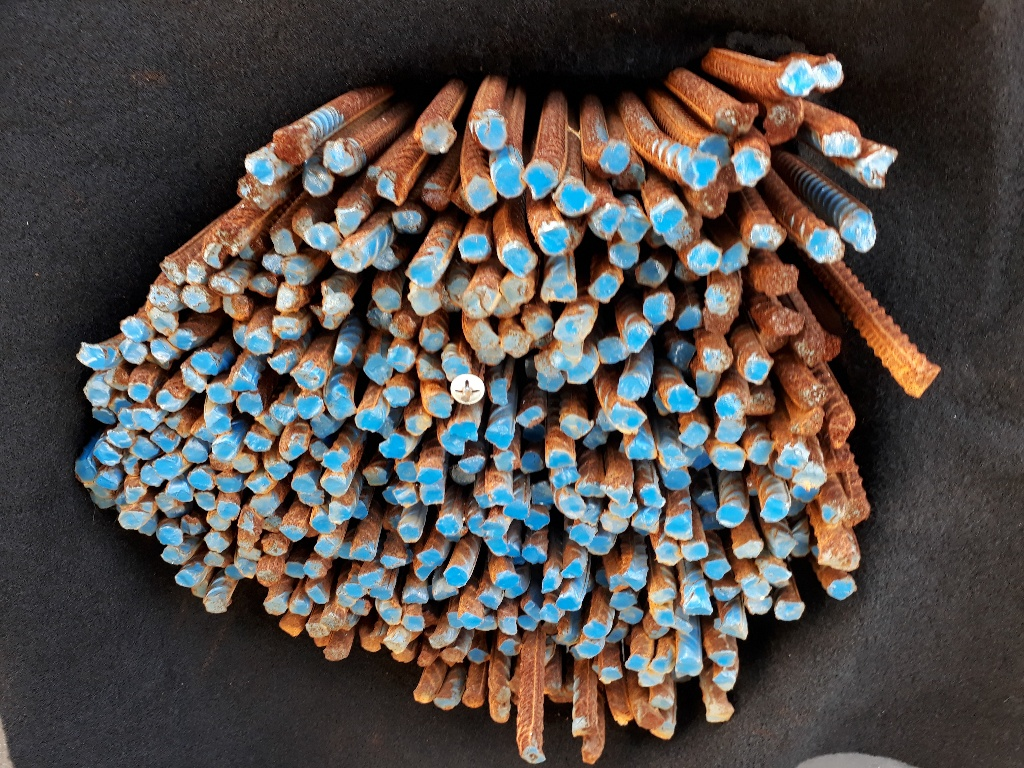dipstick: (840, 209, 877, 254), (805, 224, 846, 264), (860, 145, 898, 188), (766, 97, 800, 145), (233, 173, 277, 210), (681, 151, 720, 190), (272, 127, 312, 165), (553, 180, 595, 216), (793, 333, 832, 369), (419, 119, 457, 154), (686, 239, 721, 277), (460, 285, 499, 319), (406, 280, 442, 316), (653, 198, 688, 235), (523, 160, 556, 199), (555, 306, 594, 339), (718, 103, 759, 134), (463, 175, 497, 212), (502, 271, 536, 308), (782, 59, 815, 97), (303, 160, 335, 199), (280, 422, 311, 462), (698, 133, 733, 168), (318, 279, 353, 314), (906, 362, 940, 398), (820, 541, 860, 571), (732, 150, 766, 185), (503, 242, 537, 277), (322, 138, 357, 172), (748, 222, 789, 251), (809, 59, 845, 92), (520, 304, 553, 340), (609, 404, 646, 436), (494, 159, 525, 197), (822, 128, 861, 158), (404, 254, 438, 288), (830, 409, 857, 451), (476, 116, 509, 150), (642, 292, 675, 326), (243, 152, 276, 186), (329, 242, 366, 272), (599, 143, 632, 176), (765, 264, 797, 297), (593, 203, 622, 239), (302, 221, 339, 249), (377, 166, 404, 204), (500, 327, 532, 359), (538, 223, 569, 256), (362, 352, 395, 383), (666, 383, 700, 413), (720, 240, 749, 275), (309, 304, 349, 329), (148, 304, 180, 335), (635, 257, 668, 287), (704, 285, 737, 315), (567, 355, 600, 385), (767, 307, 805, 333), (457, 233, 491, 262), (796, 382, 830, 411), (73, 339, 107, 368), (292, 363, 327, 391), (664, 218, 694, 250), (335, 203, 365, 235), (371, 283, 403, 313), (151, 422, 181, 454), (742, 354, 771, 387), (712, 442, 745, 471), (559, 413, 592, 442), (551, 342, 584, 371), (118, 314, 153, 341), (589, 271, 618, 303), (701, 344, 734, 372), (623, 321, 651, 354), (177, 360, 204, 394), (597, 338, 633, 363), (275, 282, 306, 311), (669, 339, 697, 371), (266, 228, 298, 256), (792, 409, 824, 437), (422, 177, 449, 210), (310, 412, 343, 439), (612, 165, 645, 192), (270, 314, 304, 340), (786, 479, 821, 504), (247, 492, 282, 517), (760, 494, 789, 524), (387, 342, 416, 372), (616, 373, 647, 401), (677, 421, 710, 447), (116, 339, 149, 365), (556, 494, 585, 523), (244, 327, 273, 356), (713, 418, 748, 442), (631, 508, 661, 536), (221, 294, 251, 322), (716, 501, 747, 528), (663, 514, 694, 541), (130, 432, 161, 459), (150, 335, 177, 366), (607, 242, 639, 268), (244, 469, 277, 494), (445, 274, 469, 308), (153, 453, 181, 482), (827, 574, 857, 601), (355, 406, 385, 433), (390, 311, 416, 342), (154, 491, 185, 517), (624, 435, 656, 460), (416, 326, 448, 351), (383, 383, 415, 408), (484, 426, 517, 450), (448, 419, 481, 443), (778, 442, 808, 468), (423, 392, 453, 418), (438, 429, 468, 455), (393, 480, 419, 510), (150, 284, 180, 310), (158, 256, 183, 287), (179, 285, 210, 310), (660, 468, 692, 492), (651, 542, 683, 566), (242, 428, 274, 452), (741, 574, 774, 597), (716, 392, 744, 419), (281, 256, 308, 284), (602, 482, 630, 509), (182, 438, 210, 465), (327, 396, 356, 422), (747, 389, 777, 414), (598, 509, 629, 533), (415, 357, 446, 381), (520, 508, 552, 531), (292, 207, 313, 242), (675, 304, 702, 331), (444, 354, 470, 382), (249, 272, 277, 298), (188, 465, 214, 493), (701, 557, 730, 582), (236, 389, 265, 414), (236, 235, 265, 260), (638, 484, 668, 508), (847, 496, 871, 526), (209, 274, 243, 295), (695, 366, 718, 397), (657, 445, 688, 468), (775, 598, 806, 621), (515, 406, 546, 429), (759, 329, 791, 351), (569, 521, 595, 548), (383, 627, 410, 653), (237, 506, 263, 533), (254, 410, 282, 435), (260, 533, 288, 558), (266, 350, 294, 375), (190, 349, 218, 374), (419, 482, 448, 506), (269, 401, 298, 425), (95, 439, 124, 463), (106, 426, 135, 450), (759, 561, 792, 582), (499, 496, 529, 519), (639, 706, 669, 729), (717, 617, 748, 639), (748, 439, 774, 465), (321, 448, 347, 474), (310, 509, 336, 535), (529, 479, 556, 504), (320, 471, 347, 496), (379, 434, 408, 457), (580, 618, 609, 641), (535, 371, 565, 393), (294, 394, 324, 416), (264, 459, 295, 480), (226, 370, 257, 391), (822, 500, 847, 526), (406, 410, 432, 435), (154, 387, 181, 411), (103, 366, 130, 390), (392, 209, 421, 231), (202, 241, 224, 270), (680, 540, 709, 562), (430, 577, 459, 599), (215, 472, 244, 494), (549, 467, 579, 488), (119, 508, 149, 529), (165, 411, 190, 436), (477, 586, 503, 610), (127, 378, 153, 402), (518, 451, 545, 474), (74, 459, 97, 486), (370, 247, 398, 269), (769, 535, 797, 557), (362, 464, 390, 486), (545, 448, 574, 469), (713, 667, 738, 691), (210, 438, 235, 462), (233, 528, 263, 548), (156, 526, 186, 546), (84, 380, 109, 404), (207, 379, 233, 402), (365, 307, 392, 329), (609, 588, 636, 610), (491, 450, 519, 471), (417, 545, 445, 566), (519, 742, 547, 763), (734, 539, 763, 559), (486, 485, 515, 505), (707, 703, 736, 723), (789, 529, 812, 554), (444, 565, 469, 588), (207, 507, 232, 530), (167, 478, 192, 501), (488, 378, 510, 404), (327, 500, 349, 526), (400, 610, 426, 632), (141, 463, 163, 489), (540, 566, 561, 593), (230, 321, 251, 348), (458, 454, 486, 474), (583, 426, 606, 450), (686, 598, 714, 617), (449, 463, 477, 482), (166, 328, 194, 347), (159, 546, 187, 565), (495, 612, 518, 635), (460, 610, 483, 633), (395, 459, 417, 483), (465, 512, 487, 536), (312, 535, 336, 557), (588, 535, 613, 556), (676, 656, 701, 677), (435, 515, 460, 536), (133, 407, 154, 432), (618, 605, 644, 625), (571, 717, 597, 737), (277, 616, 303, 636), (768, 460, 795, 479), (334, 339, 353, 366), (712, 584, 742, 601), (562, 556, 584, 579), (522, 597, 544, 620), (209, 413, 232, 435), (233, 557, 256, 579), (216, 499, 238, 522), (259, 253, 283, 274), (697, 490, 718, 514), (484, 536, 509, 556), (539, 603, 564, 623), (291, 474, 316, 494), (283, 521, 308, 541), (441, 647, 466, 667), (576, 482, 607, 498), (521, 543, 547, 562), (304, 585, 330, 604), (611, 704, 633, 726), (265, 594, 287, 616), (625, 651, 650, 670), (403, 587, 428, 606), (745, 597, 771, 615), (650, 587, 676, 605), (638, 668, 664, 686), (298, 488, 324, 506), (577, 639, 603, 657), (319, 645, 350, 660), (234, 545, 265, 560), (416, 467, 445, 483), (379, 604, 401, 625), (418, 645, 440, 666), (322, 611, 344, 632), (206, 530, 228, 551), (625, 566, 645, 589), (557, 592, 580, 612), (398, 524, 421, 544), (307, 438, 327, 461), (304, 557, 327, 577), (359, 633, 382, 653), (414, 562, 439, 580), (429, 629, 454, 647), (121, 451, 139, 476), (709, 651, 737, 667), (90, 406, 118, 422), (597, 666, 623, 683), (489, 702, 510, 723), (516, 613, 538, 633), (195, 490, 215, 512), (344, 579, 367, 598), (348, 597, 371, 616), (185, 259, 204, 282), (96, 470, 119, 489), (435, 693, 460, 710), (173, 569, 198, 586), (368, 586, 396, 601), (358, 570, 380, 589), (179, 513, 201, 532), (462, 690, 485, 708), (380, 554, 407, 569), (494, 573, 519, 589), (207, 417, 232, 433), (650, 691, 672, 709), (468, 647, 490, 665), (125, 485, 147, 503), (648, 656, 671, 673), (350, 546, 373, 563), (306, 621, 329, 638), (412, 688, 436, 704), (654, 607, 674, 626), (483, 518, 503, 537), (224, 563, 244, 582), (351, 498, 369, 519), (204, 596, 226, 613), (392, 647, 415, 663), (607, 626, 627, 644), (475, 491, 495, 509), (284, 562, 304, 580), (117, 406, 135, 426), (476, 614, 497, 631), (256, 569, 277, 586), (498, 639, 521, 654), (289, 600, 312, 615), (608, 572, 626, 591), (380, 485, 398, 504), (204, 550, 224, 567), (580, 745, 596, 765), (262, 514, 280, 530)
